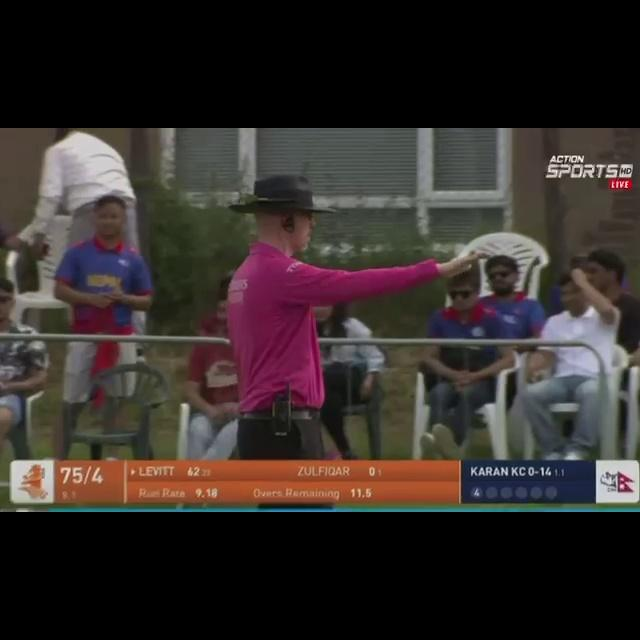umpire: (225, 159, 555, 459)
